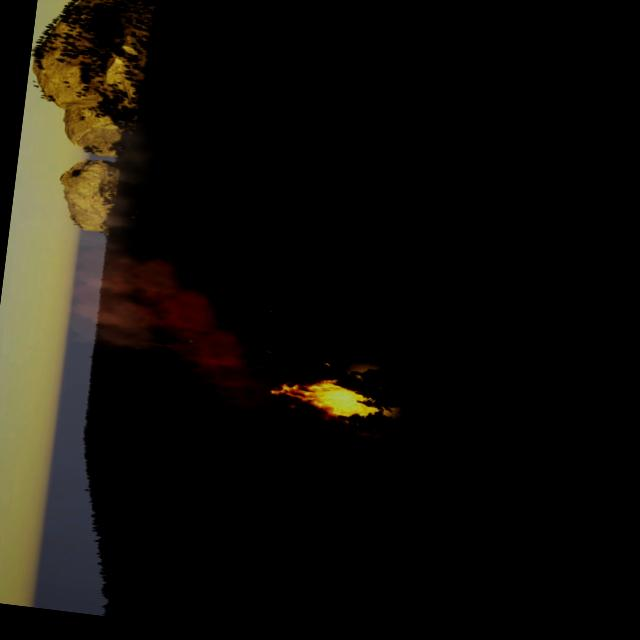fire: (270, 364, 374, 422)
smoke: (65, 110, 312, 410)
